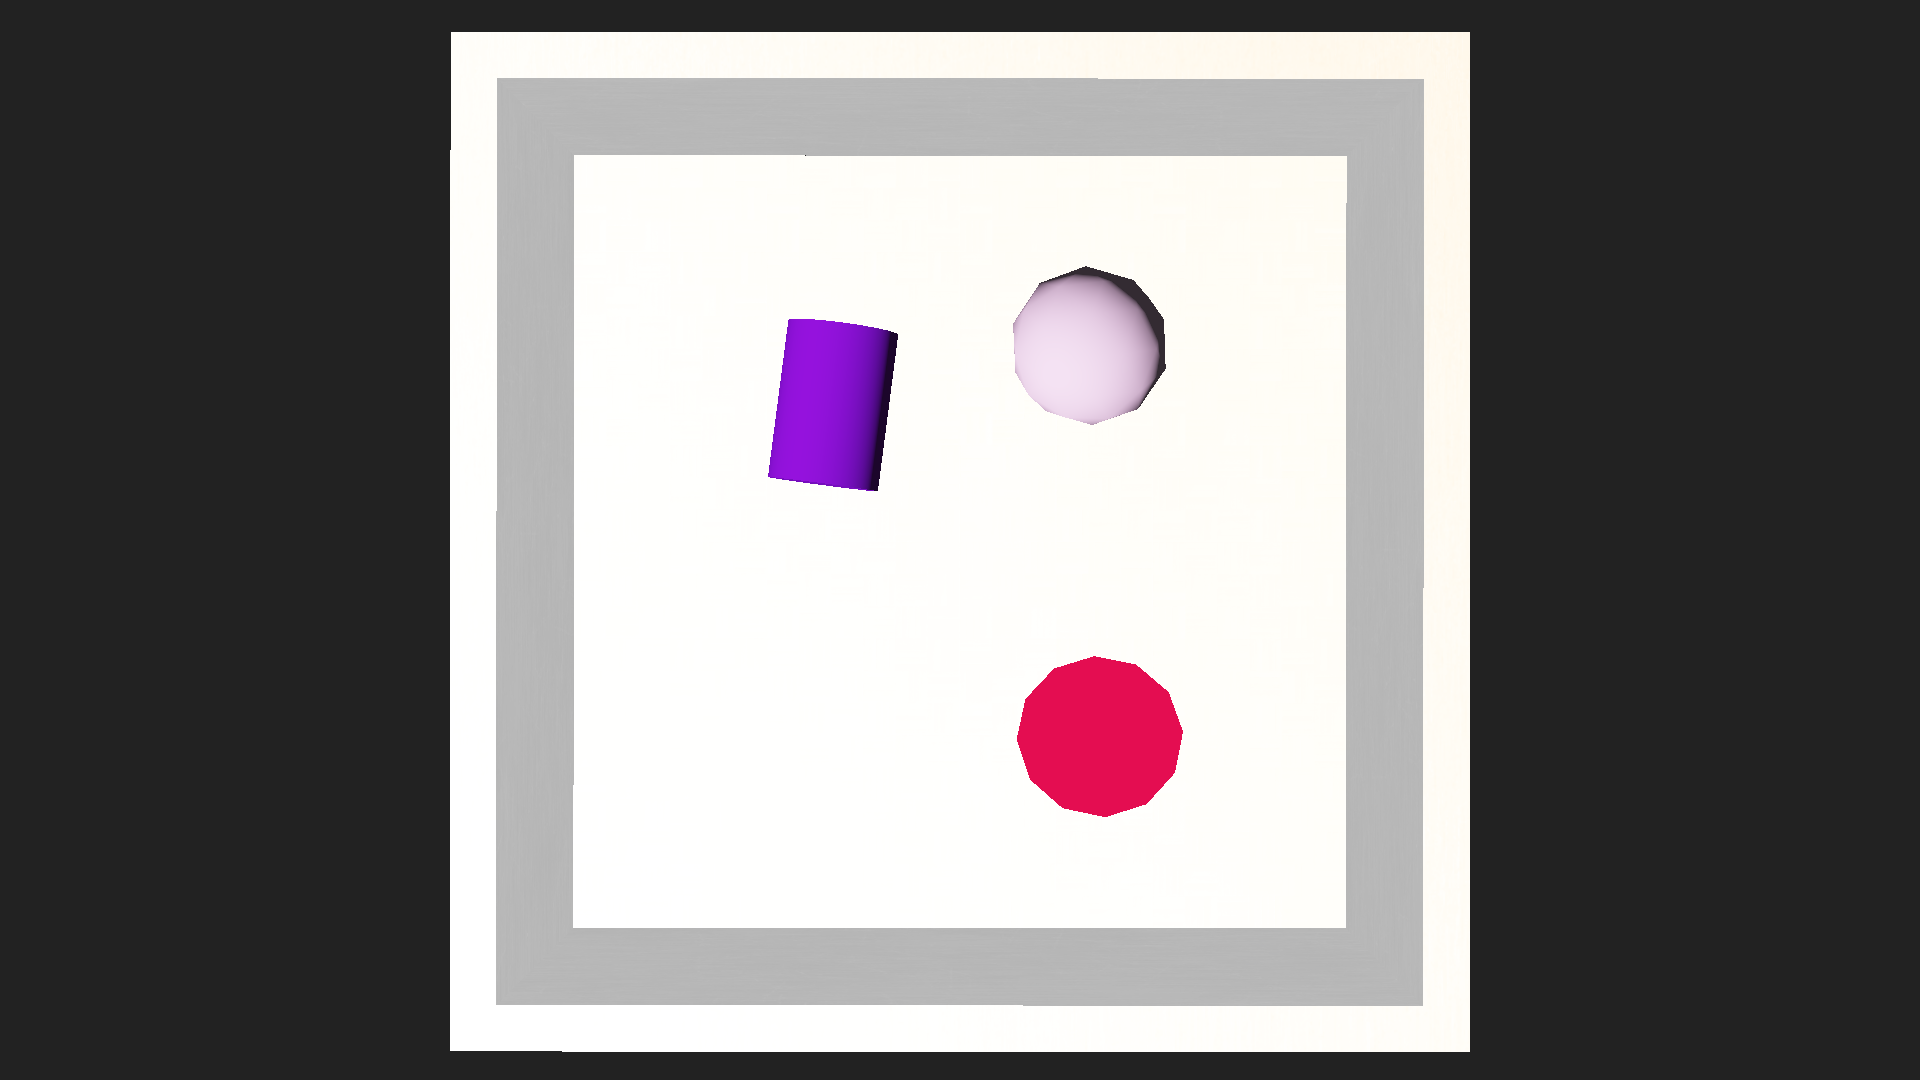cone: (764, 314, 899, 492)
cylinder: (1015, 653, 1182, 869)
sphere: (1007, 266, 1168, 426)
